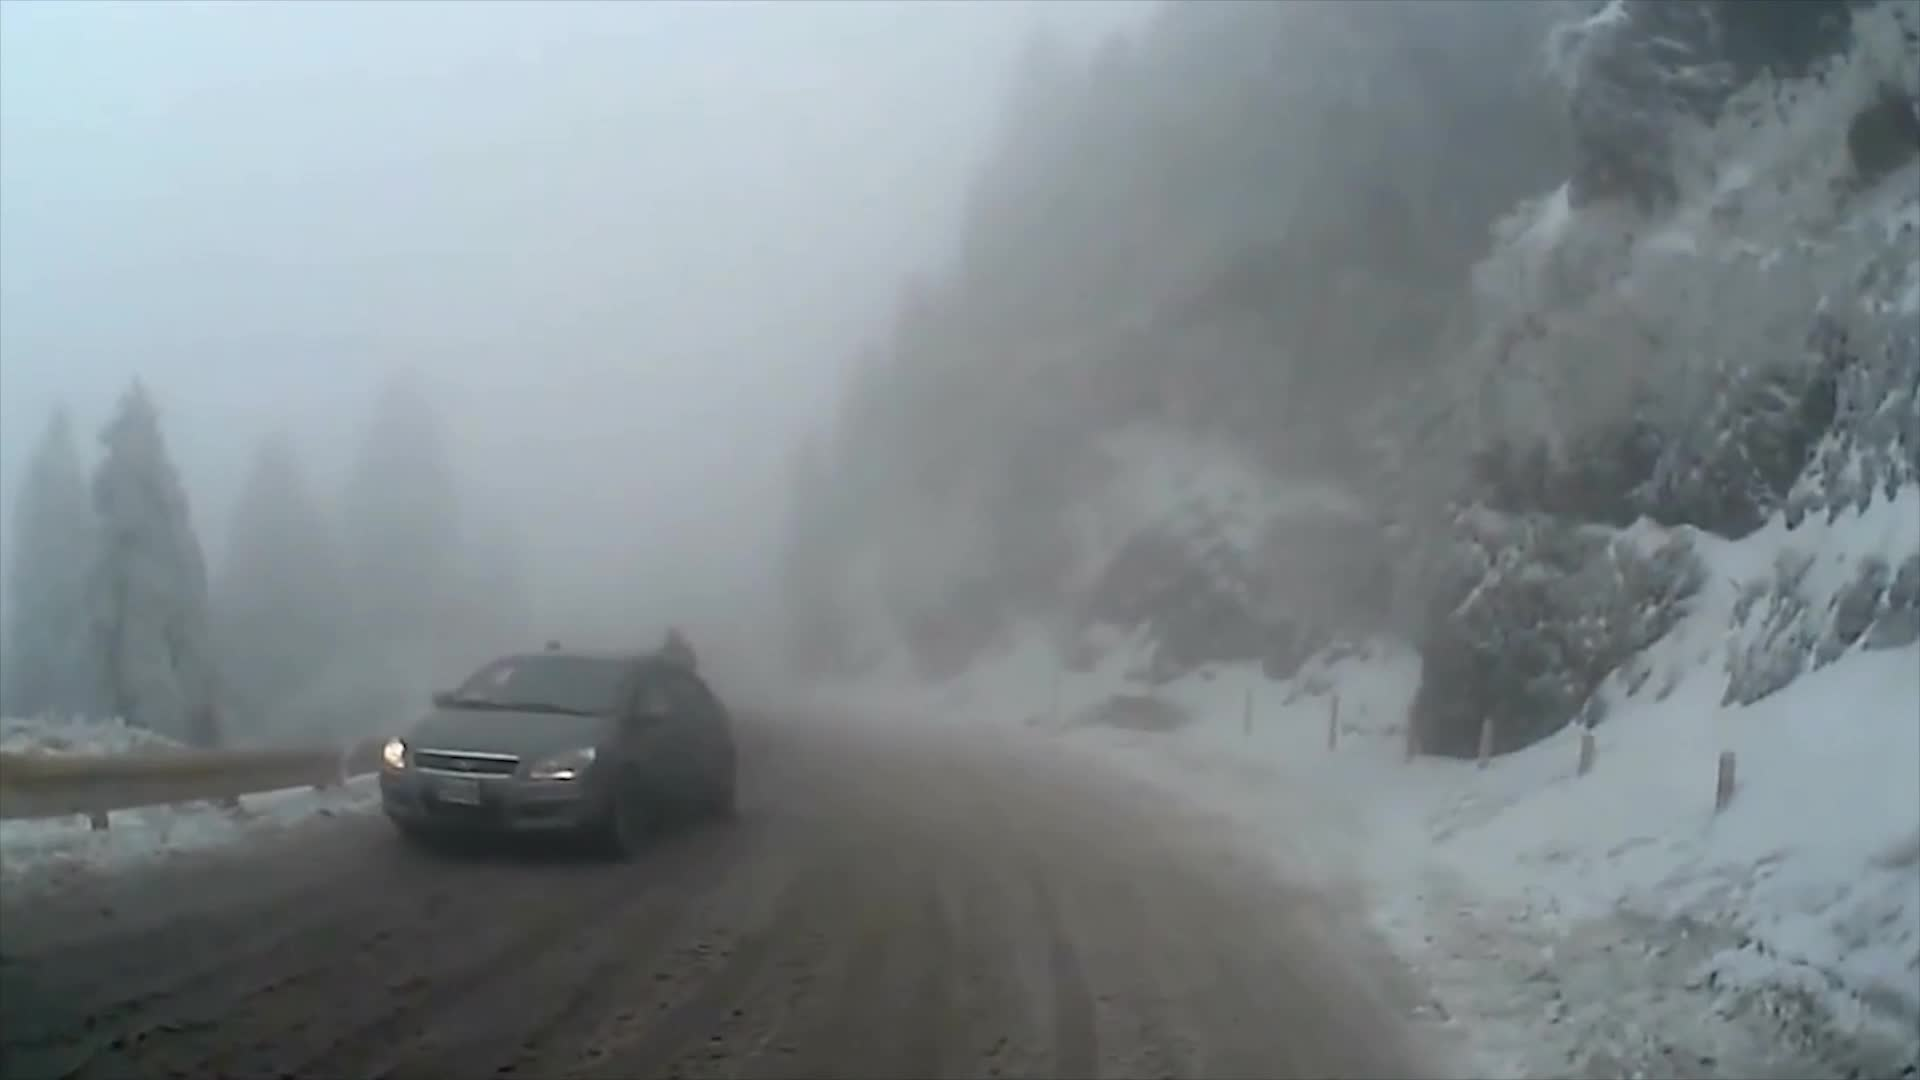vehicle: (373, 647, 731, 858)
